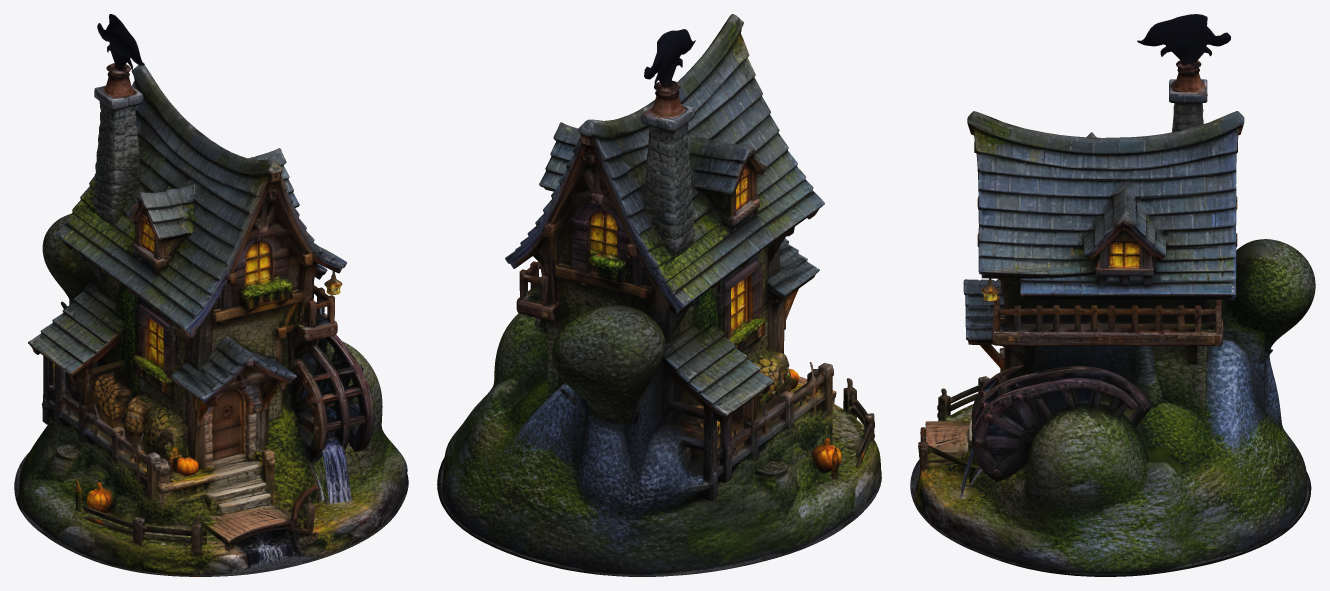
Rendered from witch-cottage.glb.
3 views of the same model, side by side, from view 1: azimuth 30°, elevation 25°; view 2: azimuth 150°, elevation 25°; view 3: azimuth 270°, elevation 25° (orthographic). The views are drawn at different scales.
Parts seen in each view (by area): view 1: node_0; view 2: node_0; view 3: node_0.
Part boxes in pixels (x1=…): node_0: x1=14, y1=14, x2=408, y2=576; node_0: x1=437, y1=14, x2=881, y2=576; node_0: x1=910, y1=14, x2=1315, y2=576.
Bounding box in the file's own units: 0.731 × 0.9187 × 0.7442.
1 material, 1 textured.
